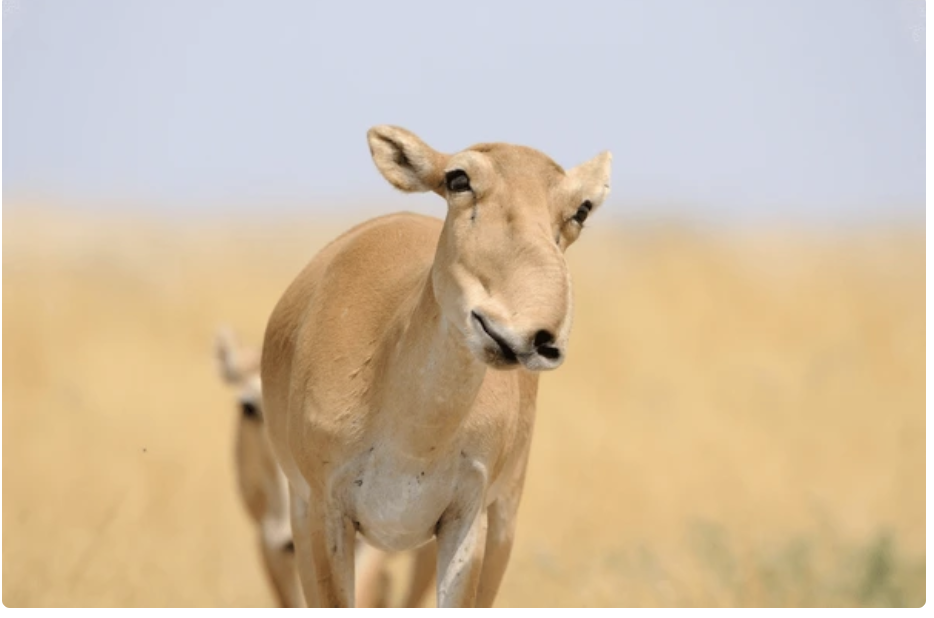saiga: (240, 104, 625, 604)
